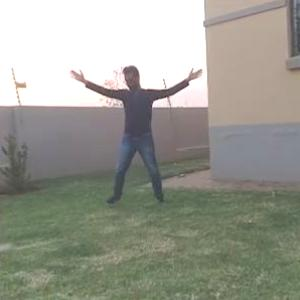takeoff: (76, 68, 206, 212)
